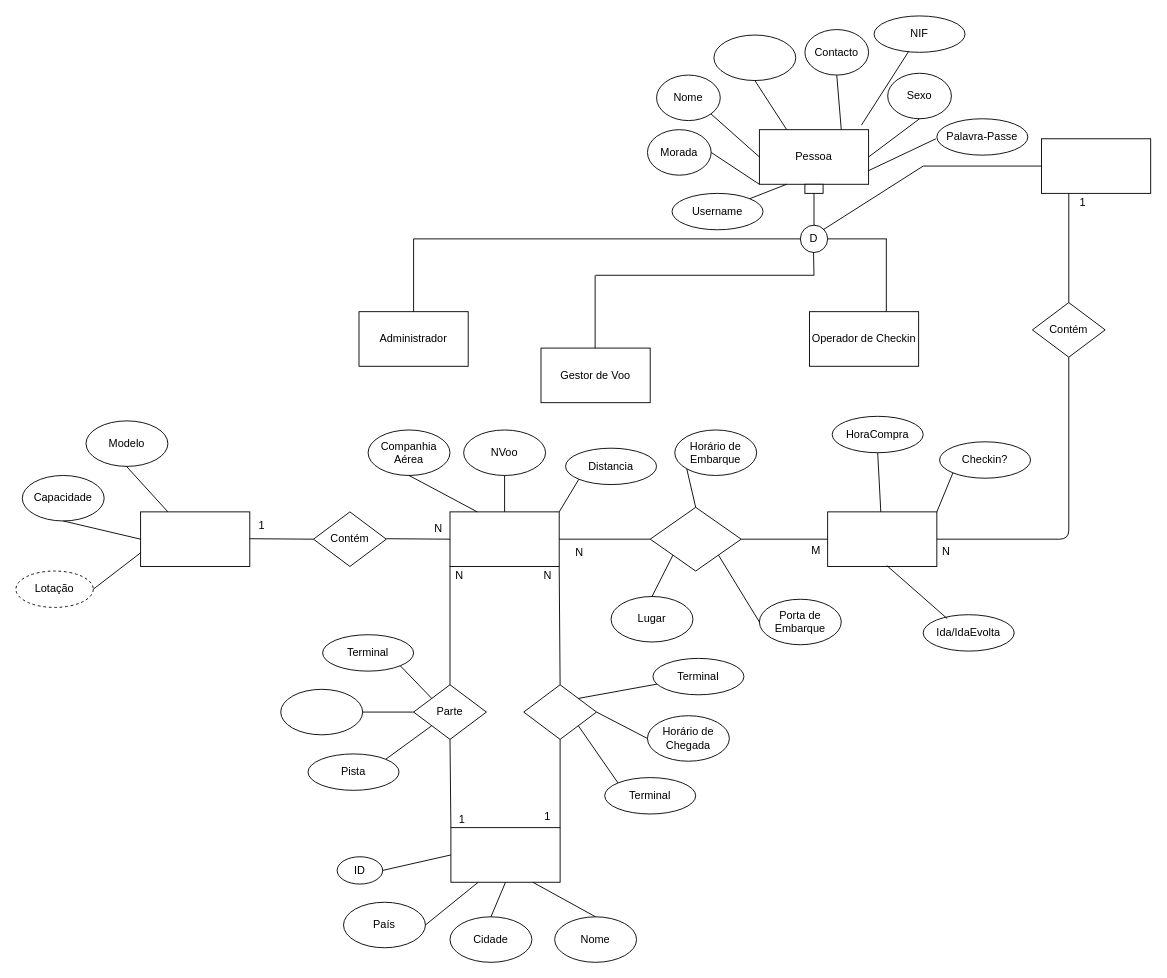
This 1167x978 diagram has some shape labels left out. Each missing label, with the centre of its shape:
Aeroporto: the point at 505,854
Avião: the point at 195,538
Bilhetes: the point at 882,538
Chega: the point at 560,711
DtaNascimento: the point at 754,57
Escala: the point at 695,538
Horário de Partida: the point at 321,711
Passageiro: the point at 1096,165
Voo: the point at 504,538
